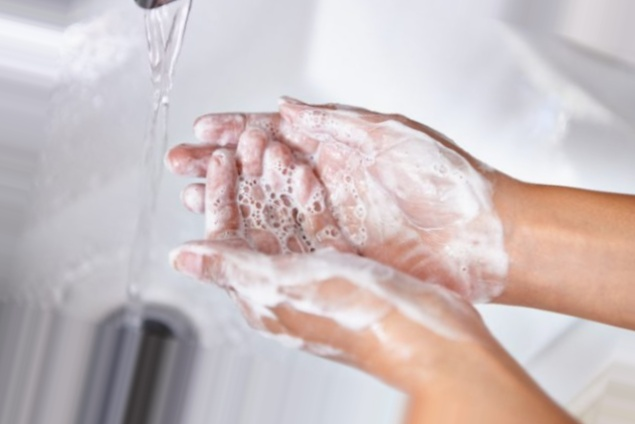washing hand: (37, 0, 587, 410)
